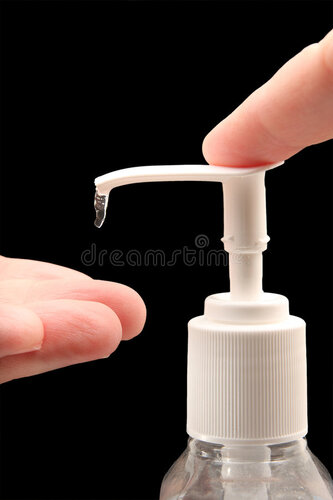sanitizer: (91, 163, 330, 494)
